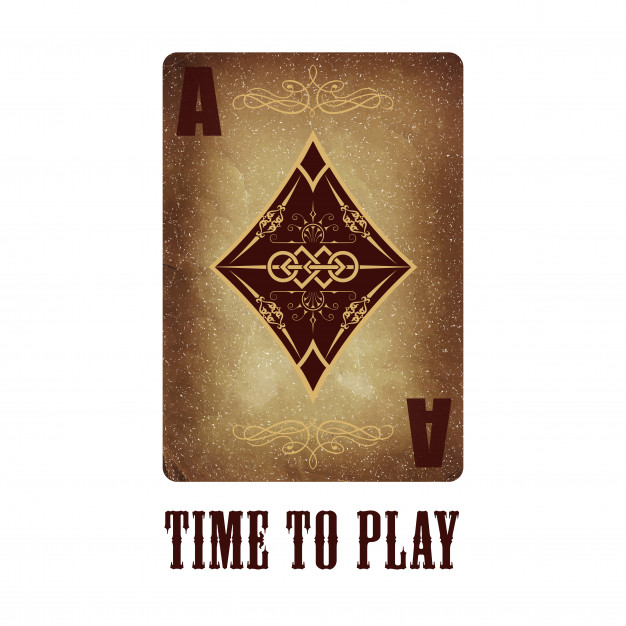ace of diamonds: (163, 50, 467, 483)
